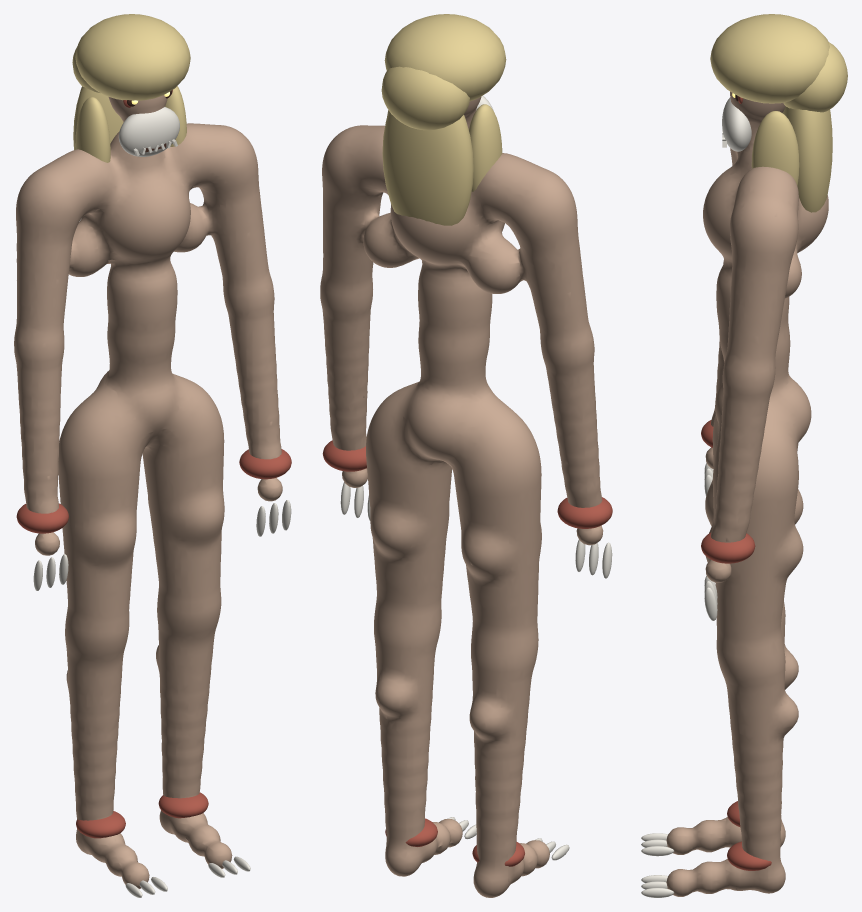
The model's file is jaw-titan.glb.
3 renders of one model, left to right at view 1: azimuth 30°, elevation 25°; view 2: azimuth 150°, elevation 25°; view 3: azimuth 270°, elevation 25°, orthographic. The views are drawn at different scales.
Parts seen in each view (by area): view 1: Skin.001, HairCrown, Mask, HairSide.001, WristRed.001, WristRed, AnkleRed, HairBack, AnkleRed.001, HairSide; view 2: Skin.001, HairBack, HairCrown, HairTop, HairSide.001, WristRed.001, WristRed; view 3: Skin.001, HairCrown, HairBack, HairSide, HairTop, WristRed, Mask, AnkleRed.
Part boxes in pixels (x1,y1,x2,y2): Skin.001: (14, 95, 282, 888); HairCrown: (75, 14, 190, 100); Mask: (118, 107, 179, 156); HairSide.001: (75, 97, 110, 162); WristRed.001: (16, 503, 68, 533); WristRed: (239, 449, 291, 479); AnkleRed: (158, 792, 208, 818); HairBack: (73, 86, 123, 149); AnkleRed.001: (76, 811, 125, 838); HairSide: (165, 86, 186, 146); Skin.001: (320, 96, 603, 897); HairBack: (382, 111, 473, 225); HairCrown: (384, 14, 506, 101); HairTop: (381, 66, 469, 130); HairSide.001: (468, 104, 502, 191); WristRed.001: (557, 497, 612, 528); WristRed: (322, 440, 366, 471); Skin.001: (666, 91, 828, 896); HairCrown: (710, 14, 829, 103); HairBack: (782, 106, 832, 212); HairSide: (751, 111, 799, 185); HairTop: (783, 42, 847, 112); WristRed: (701, 532, 755, 563); Mask: (722, 97, 751, 151); AnkleRed: (727, 841, 771, 870).
Size of the model in its own units: 1.69 by 4.95 by 1.09.
